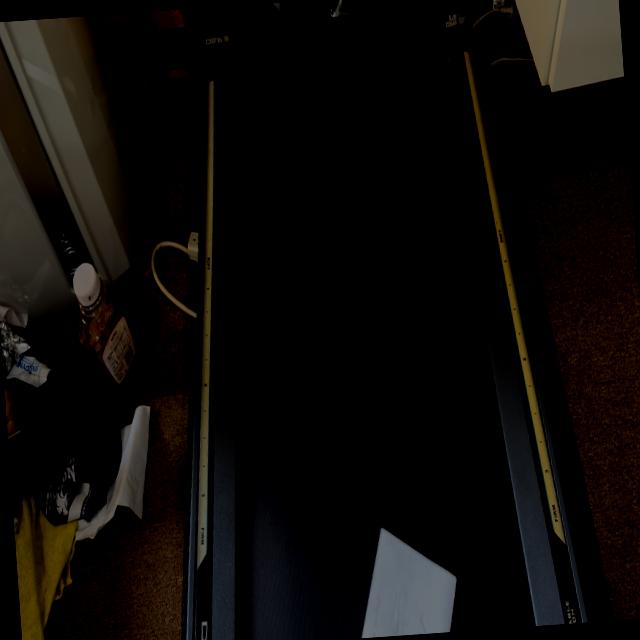Recycle: (351, 517, 464, 638)
